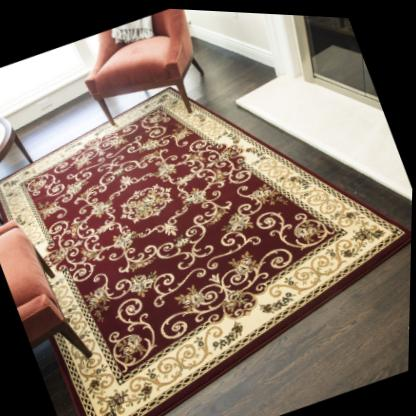Carpet: (0, 85, 412, 416)
